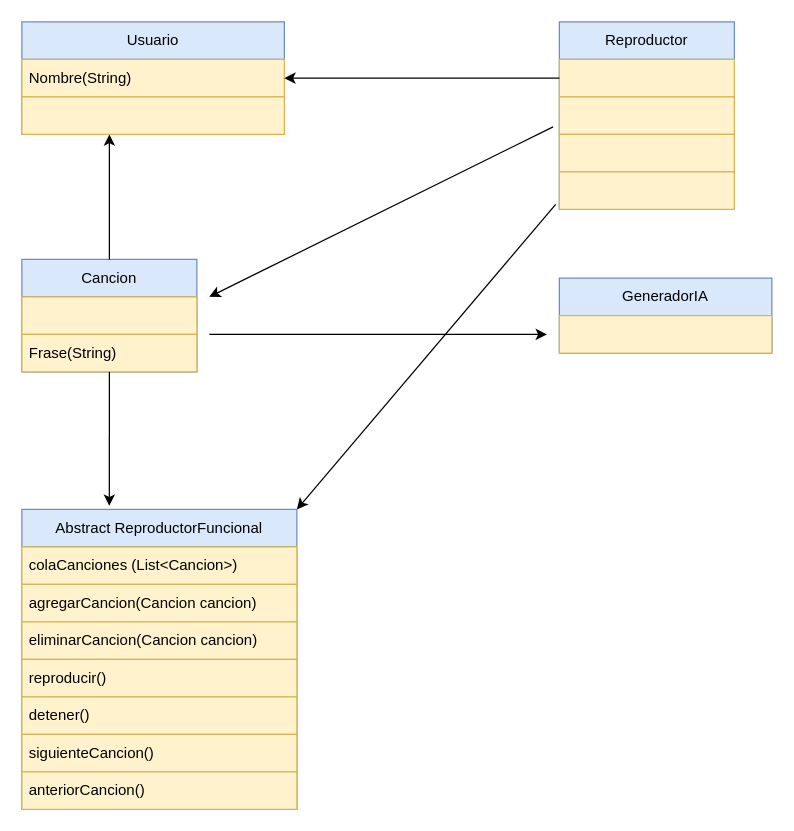
Some shapes in this 794 by 831 pixel diagram are drawn without their labels. The centre of each missing label's shape, as x and y in pixels:
Frase: (x=646, y=152)
Funcionalidad: (x=646, y=190)
generarLetra(String genero):: (x=665, y=333)
GenerosElegidos(List<String>): (x=152, y=115)
Letra: (x=646, y=115)
Letra(String): (x=109, y=315)
Nombre: (x=646, y=77)
